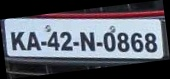character: (10, 31, 26, 50), (26, 31, 41, 50), (80, 31, 94, 50), (130, 32, 143, 52), (144, 32, 157, 52), (60, 31, 73, 50), (117, 31, 129, 51), (47, 31, 59, 50), (103, 32, 115, 51)
